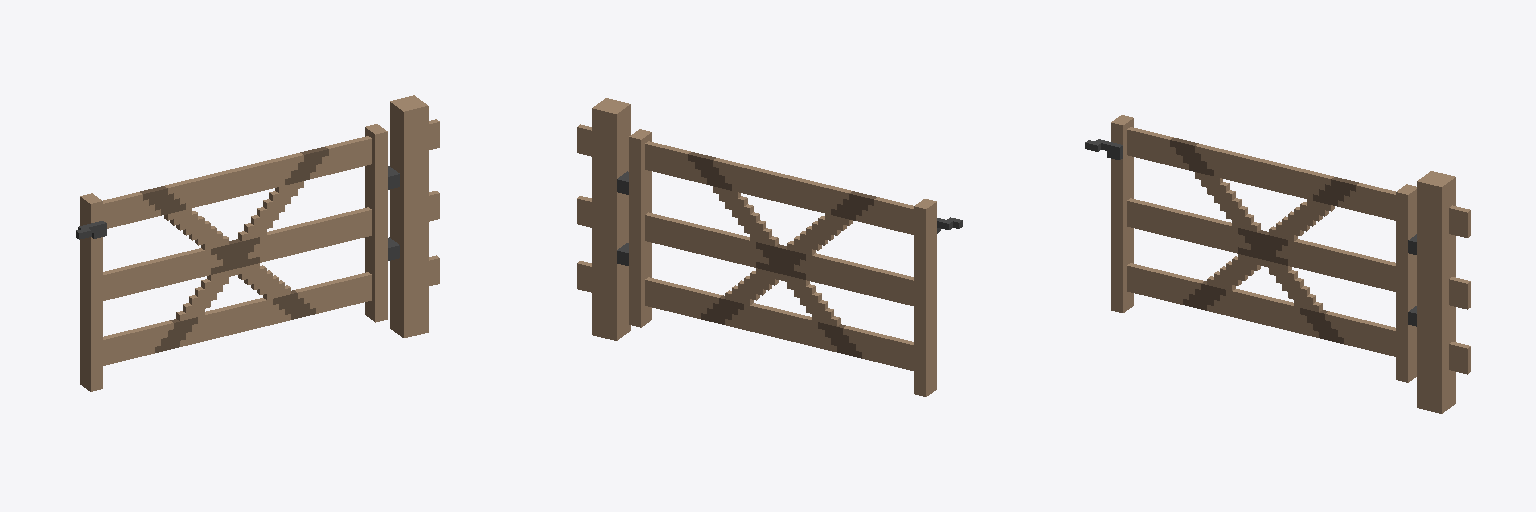
3 renders of one model, left to right at view 1: azimuth 30°, elevation 25°; view 2: azimuth 150°, elevation 25°; view 3: azimuth 330°, elevation 25°, orthographic.
Bounding box in the file's own units: 60 × 35 × 5.
1 materials, 1 textured.